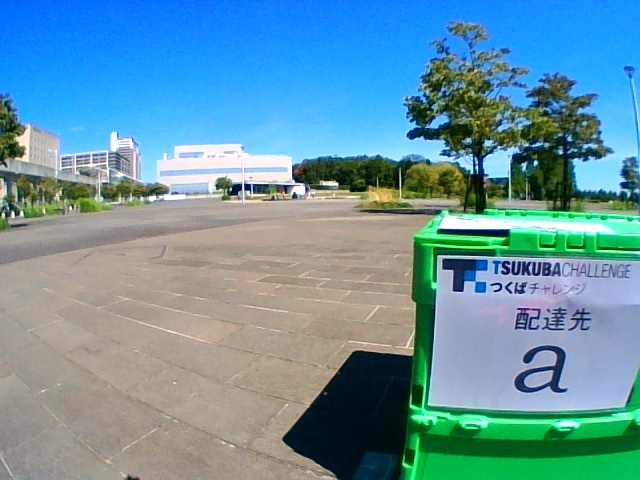green_box: (401, 208, 640, 480)
tag_a: (442, 261, 623, 404)
